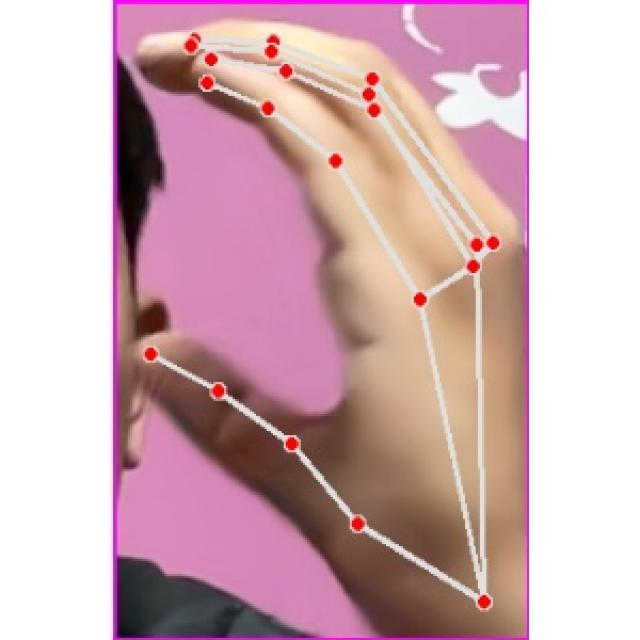C: (128, 6, 526, 632)
